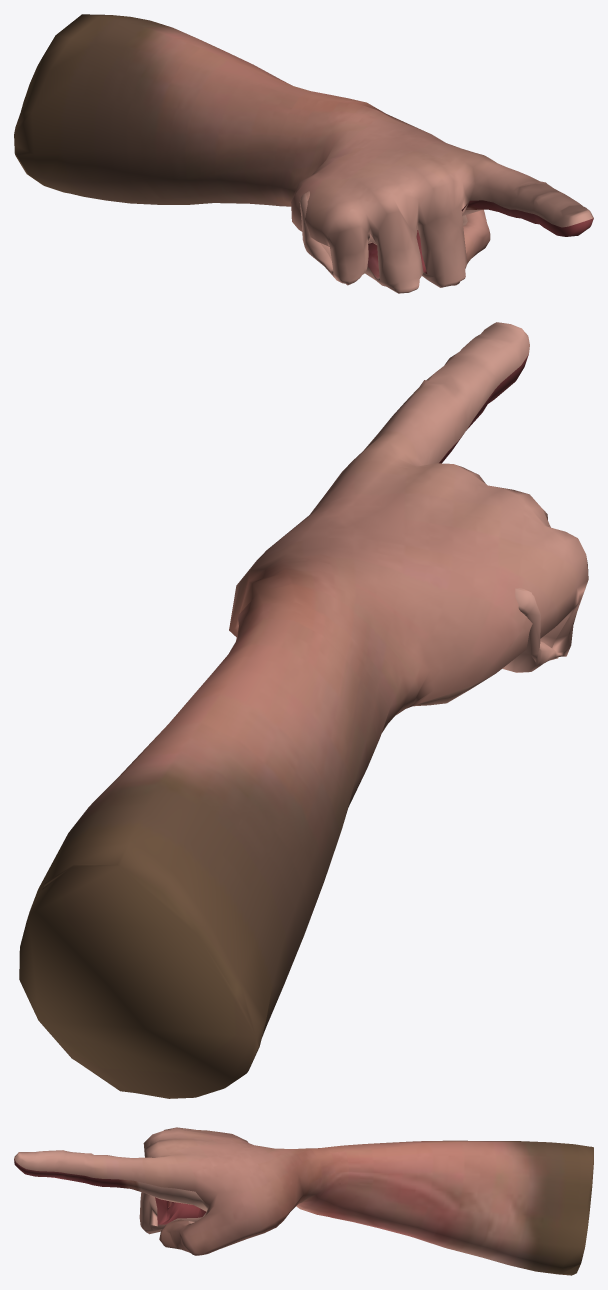
Rendered from hand.glb.
The picture shows the model from 3 angles, top to bottom: view 1: azimuth 30°, elevation 25°; view 2: azimuth 150°, elevation 25°; view 3: azimuth 270°, elevation 25°; orthographic projection. The views are drawn at different scales.
Visible parts, largest first — view 1: hand; view 2: hand; view 3: hand.
Boxes of the visible parts, x1,y1,x2,y2 form: hand: (14, 14, 593, 293); hand: (19, 322, 588, 1098); hand: (14, 1127, 593, 1275).
Size of the model in its own units: 0.1394 by 0.122 by 0.396.
Materials: 1 (1 with a texture image).
